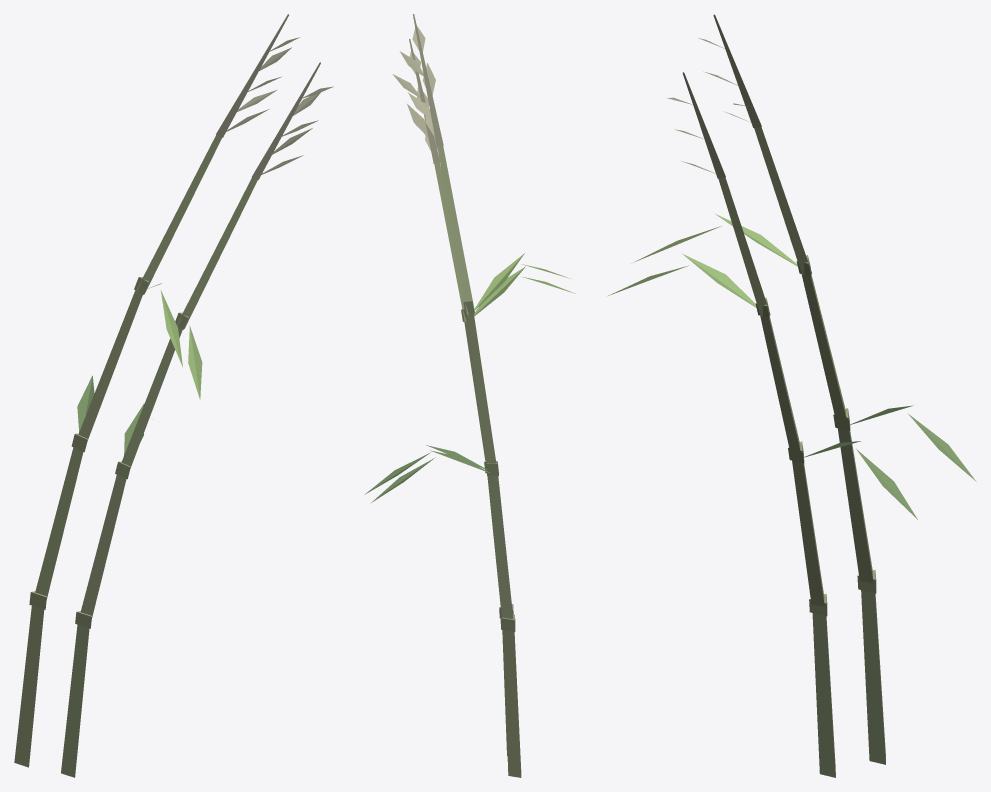
The model's file is shui.luwei@subadult__spring.glb.
3 renders of one model, left to right at view 1: azimuth 30°, elevation 25°; view 2: azimuth 150°, elevation 25°; view 3: azimuth 270°, elevation 25°, orthographic. The views are drawn at different scales.
Parts seen in each view (by area): view 1: shui.luwei@subadult__spring; view 2: shui.luwei@subadult__spring; view 3: shui.luwei@subadult__spring.
Boxes of the visible parts, box(x1,y1,x2,y2) form: shui.luwei@subadult__spring: box(14, 14, 333, 777); shui.luwei@subadult__spring: box(364, 14, 575, 777); shui.luwei@subadult__spring: box(608, 14, 976, 777).
Bounding box in the file's own units: 0.5534 × 1.76 × 0.696.
